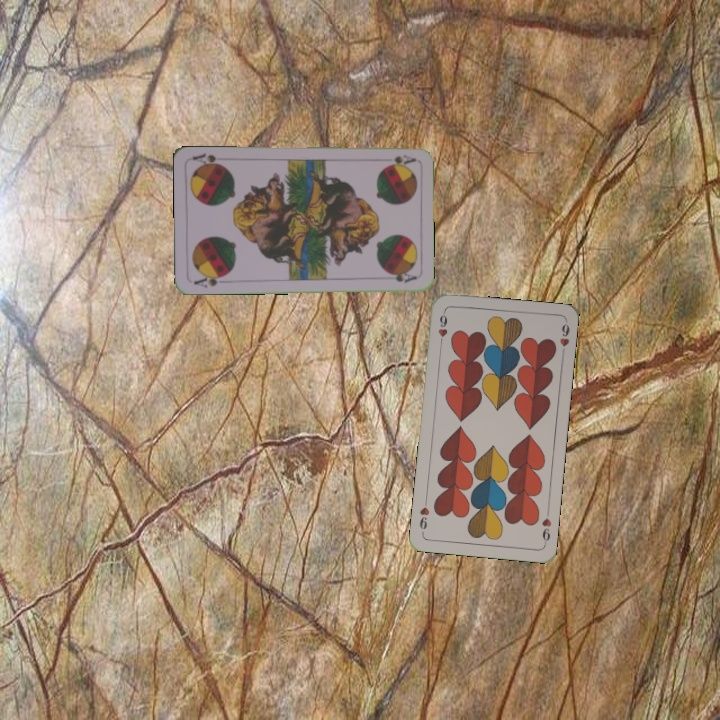H9: (538, 506, 554, 547), (434, 307, 450, 348)
SA: (190, 270, 229, 290), (383, 151, 417, 168)
